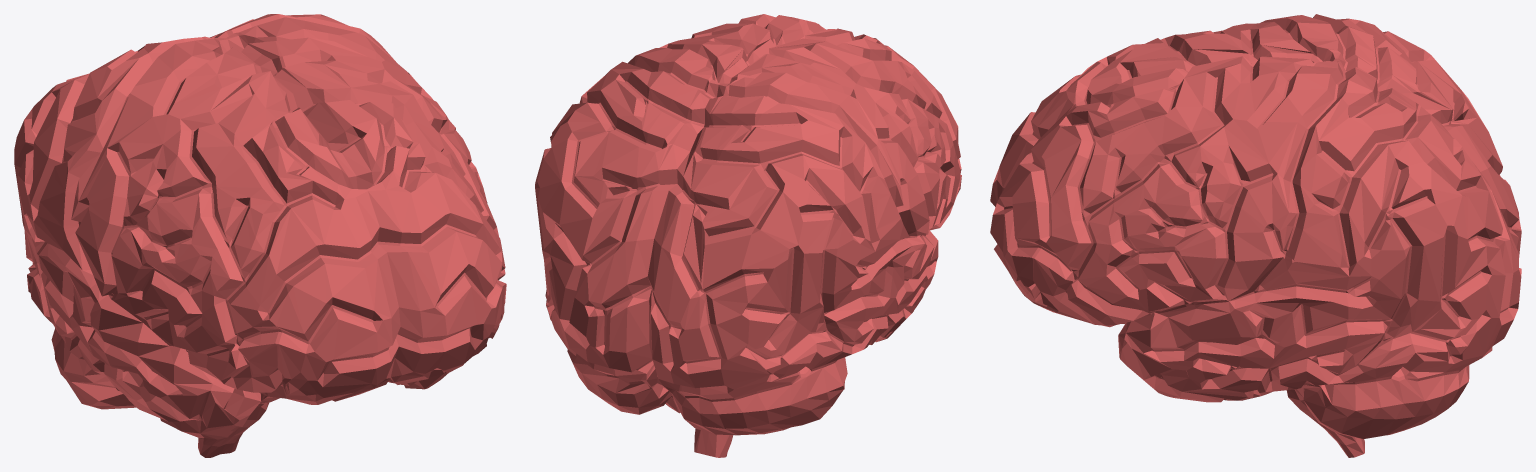
File: Brain.fbx
3 renders of one model, left to right at view 1: azimuth 30°, elevation 25°; view 2: azimuth 150°, elevation 25°; view 3: azimuth 270°, elevation 25°, orthographic. The views are drawn at different scales.
Visible parts, largest first — view 1: brain; view 2: brain; view 3: brain.
Part boxes in pixels (x1,y1,x2,y2): brain: (14, 14, 506, 457); brain: (535, 14, 961, 457); brain: (990, 14, 1521, 457).
Bounding box in the file's own units: 509 × 561 × 670.
